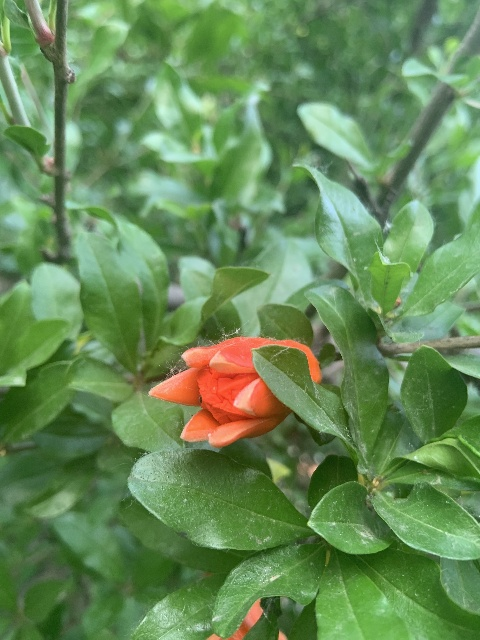flower: (149, 335, 321, 447)
